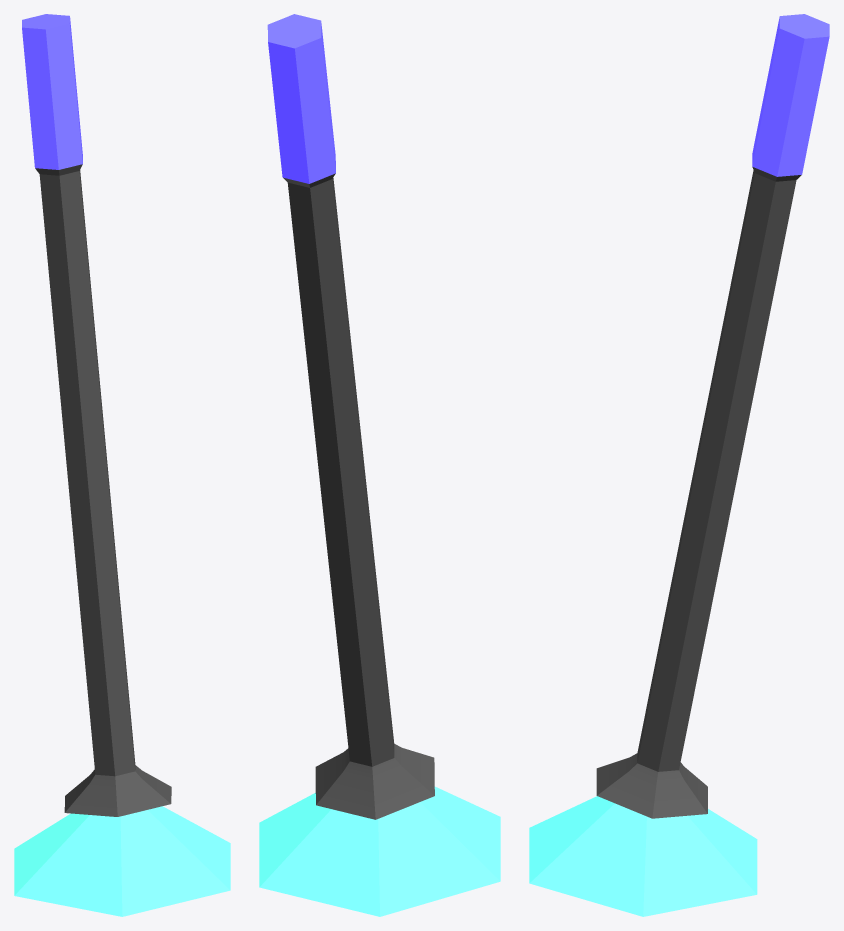
The model's file is SurfaceCleaner.fbx.
3 renders of one model, left to right at view 1: azimuth 30°, elevation 25°; view 2: azimuth 150°, elevation 25°; view 3: azimuth 270°, elevation 25°, orthographic. The views are drawn at different scales.
Visible parts, largest first — view 1: Cylinder; view 2: Cylinder; view 3: Cylinder.
Boxes of the visible parts, bbox=[...] form: Cylinder: bbox=[14, 14, 230, 916]; Cylinder: bbox=[259, 14, 500, 916]; Cylinder: bbox=[529, 14, 829, 916].
Size of the model in its own units: 31.92 by 113 by 36.38.
